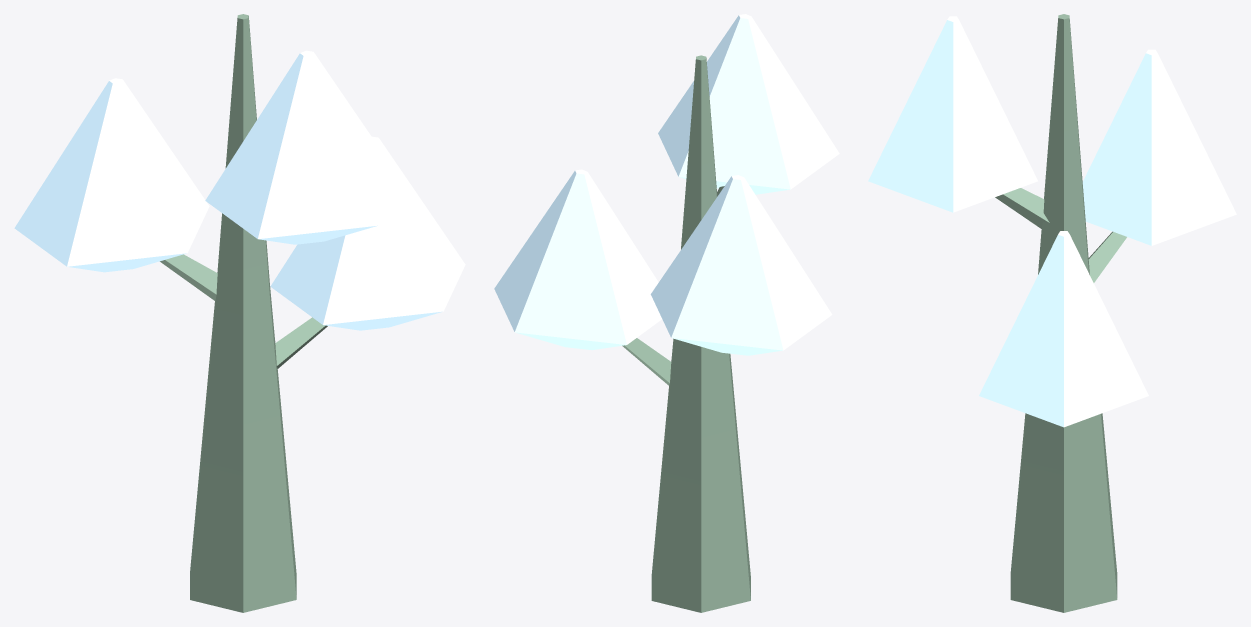
Rendered from prop_tree_orren_v4_ShadowProxy.glb.
The picture shows the model from 3 angles, left to right: view 1: azimuth 30°, elevation 25°; view 2: azimuth 150°, elevation 25°; view 3: azimuth 270°, elevation 25°; orthographic projection. The views are drawn at different scales.
Visible parts, largest first — view 1: prop_tree_orren_v4_ShadowProxy / Natural silhouette; view 2: prop_tree_orren_v4_ShadowProxy / Natural silhouette; view 3: prop_tree_orren_v4_ShadowProxy / Natural silhouette.
Part boxes in pixels (left/top/right/bottom): prop_tree_orren_v4_ShadowProxy / Natural silhouette: left=14, top=14, right=465, bottom=612; prop_tree_orren_v4_ShadowProxy / Natural silhouette: left=494, top=14, right=839, bottom=612; prop_tree_orren_v4_ShadowProxy / Natural silhouette: left=868, top=14, right=1236, bottom=612.
Bounding box in the file's own units: 1.71 × 2.46 × 1.44.
